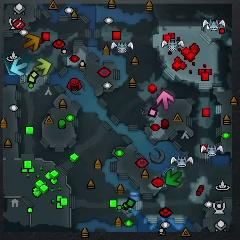x1: (156, 90, 174, 110)
x2: (36, 58, 51, 75)
x3: (10, 59, 27, 75)
x4: (166, 169, 182, 186)
x5: (24, 34, 40, 51)
